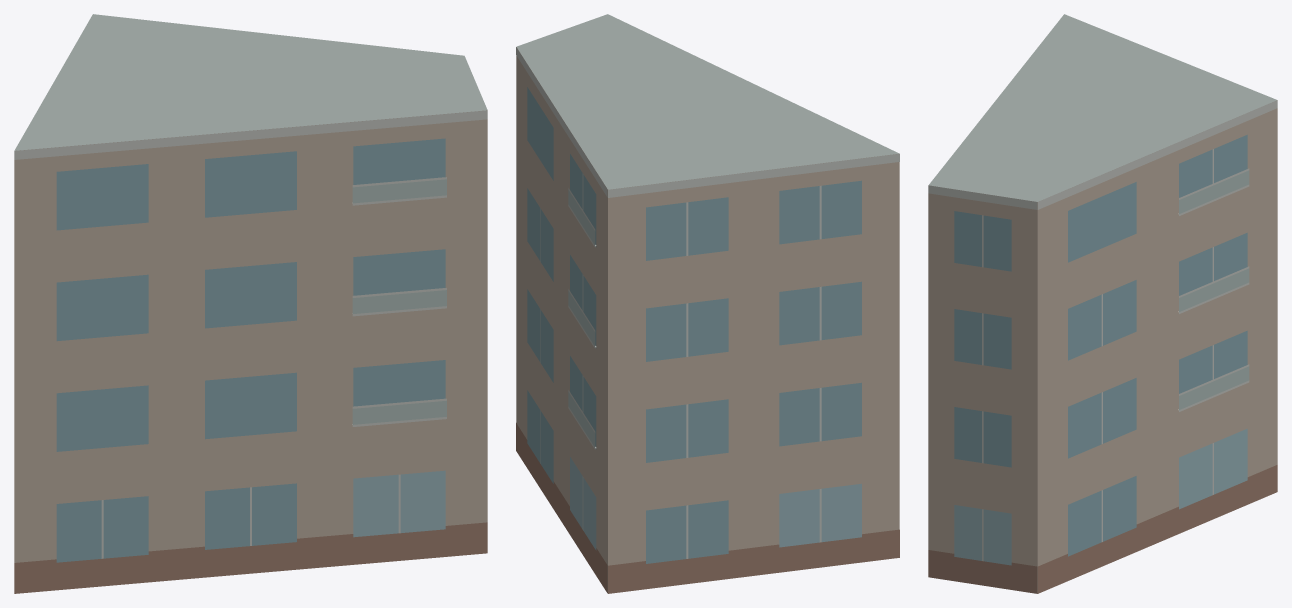
Rendered from survey-upis-32905658.glb.
3 views of the same model, side by side, from view 1: azimuth 30°, elevation 25°; view 2: azimuth 150°, elevation 25°; view 3: azimuth 270°, elevation 25° (orthographic). The views are drawn at different scales.
Visible parts, largest first — view 1: survey-upis-32905658.tmp; view 2: survey-upis-32905658.tmp; view 3: survey-upis-32905658.tmp.
Part boxes in pixels (box(x1,y1,x2,y2)): survey-upis-32905658.tmp: box(14, 14, 487, 593); survey-upis-32905658.tmp: box(516, 14, 899, 593); survey-upis-32905658.tmp: box(928, 14, 1277, 593).
Size of the model in its own units: 12.25 by 11.9 by 9.62.
